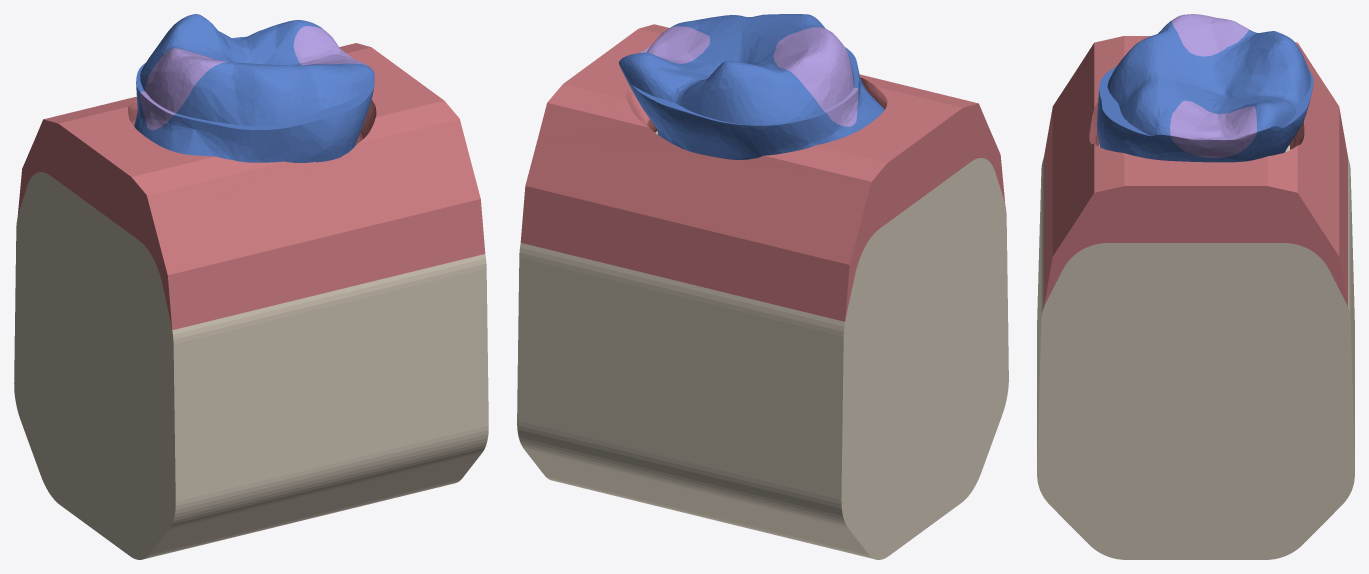
Rendered from prepared.glb.
3 views of the same model, side by side, from view 1: azimuth 30°, elevation 25°; view 2: azimuth 150°, elevation 25°; view 3: azimuth 270°, elevation 25° (orthographic). The views are drawn at different scales.
Parts seen in each view (by area): view 1: bone, gum, teeth, filling; view 2: bone, gum, teeth, filling; view 3: bone, gum, teeth, filling.
Part boxes in pixels (<box>): bone: <box>14,172,488,559</box>; gum: <box>17,43,485,329</box>; teeth: <box>134,14,374,162</box>; filling: <box>140,26,368,130</box>; bone: <box>517,131,1008,559</box>; gum: <box>520,24,1005,321</box>; teeth: <box>619,14,884,159</box>; filling: <box>640,26,858,126</box>; bone: <box>1037,144,1354,559</box>; gum: <box>1044,36,1347,306</box>; teeth: <box>1097,21,1313,162</box>; filling: <box>1170,14,1256,158</box>.
Bounding box in the file's own units: 0.0142 × 0.0194 × 0.0127.
